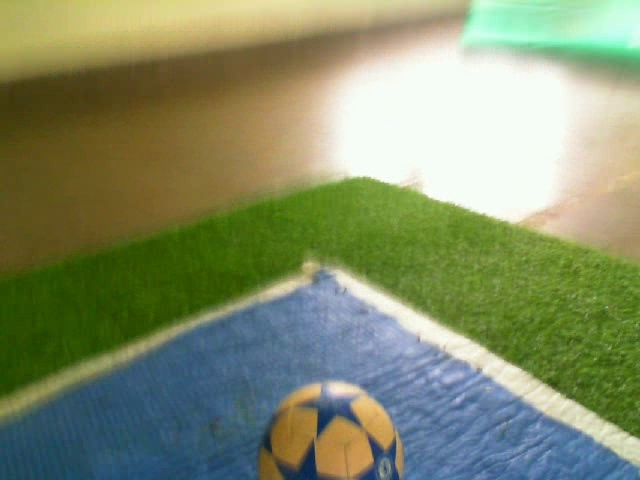ball: (251, 377, 410, 480)
